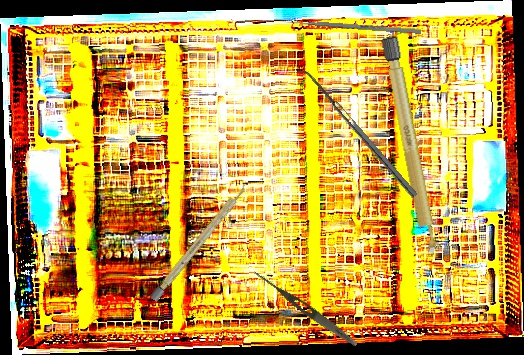Dressing Forceps: (250, 267, 360, 350)
Pusher: (279, 19, 422, 34)
Scalpel Handle: (380, 35, 441, 260), (149, 182, 249, 303)
Spatula Surgical: (295, 64, 418, 203)
